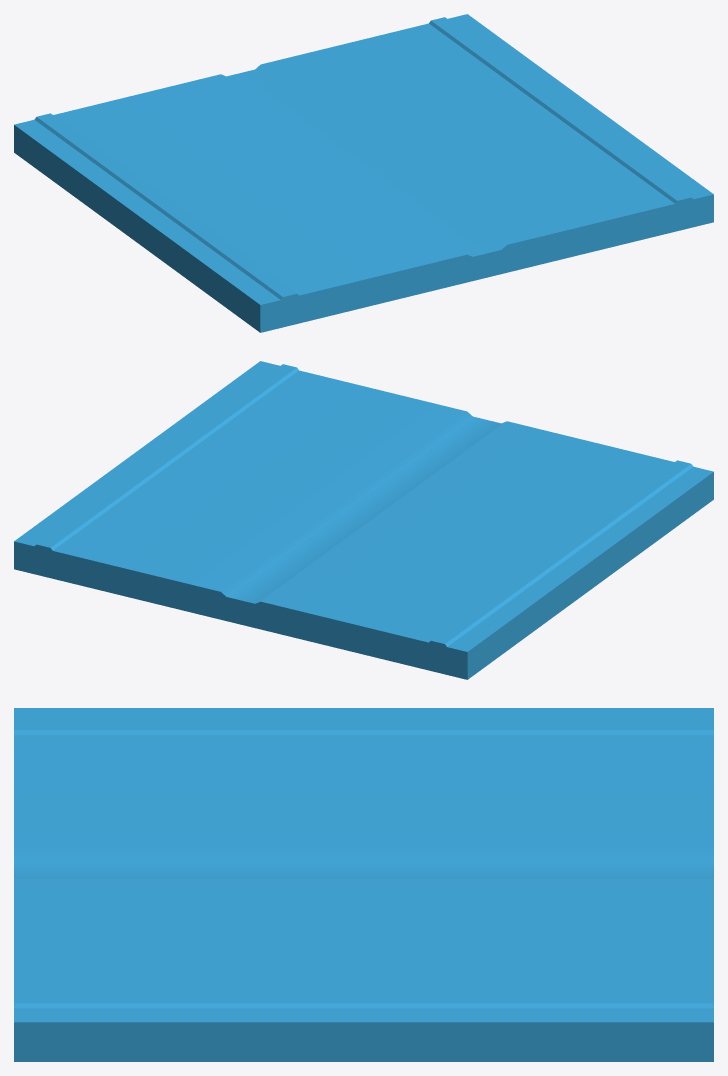
File: ShipFloor4m.fbx
The picture shows the model from 3 angles, top to bottom: view 1: azimuth 30°, elevation 25°; view 2: azimuth 150°, elevation 25°; view 3: azimuth 270°, elevation 25°; orthographic projection. The views are drawn at different scales.
Visible parts, largest first — view 1: Floor4m; view 2: Floor4m; view 3: Floor4m.
Boxes of the visible parts, <box> form: Floor4m: <box>14,14,713,332</box>; Floor4m: <box>14,361,713,679</box>; Floor4m: <box>14,708,713,1061</box>.
Size of the model in its own units: 4.25 by 0.2716 by 4.
